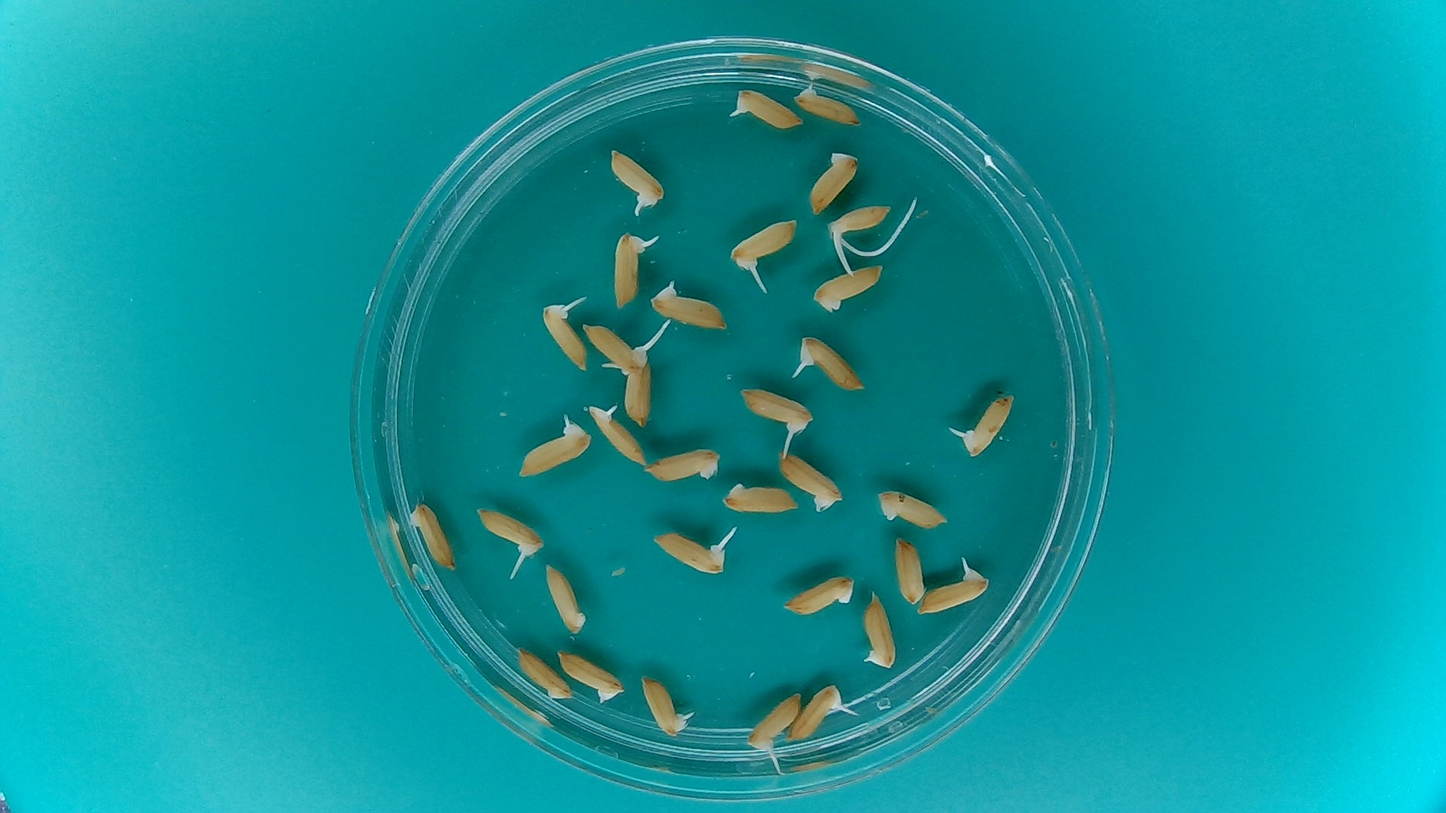no: (775, 449, 844, 511), (554, 647, 626, 704), (809, 260, 886, 313), (406, 498, 459, 574), (806, 148, 863, 215), (511, 644, 575, 703), (780, 571, 857, 617), (642, 443, 724, 486), (543, 559, 588, 637), (874, 486, 951, 531), (717, 477, 802, 515), (792, 84, 864, 126), (891, 534, 928, 607)
yes: (606, 144, 667, 214), (538, 291, 590, 373), (599, 356, 656, 430), (517, 425, 593, 480), (797, 336, 869, 394), (579, 318, 649, 373), (963, 388, 1017, 457), (590, 405, 650, 467), (473, 504, 544, 556), (915, 570, 991, 616), (738, 384, 810, 432), (859, 587, 899, 673), (654, 529, 729, 574), (748, 689, 803, 749), (731, 217, 798, 266), (639, 671, 687, 736), (787, 685, 840, 741), (733, 90, 805, 131), (650, 292, 725, 330), (611, 230, 645, 309), (828, 202, 891, 241)
